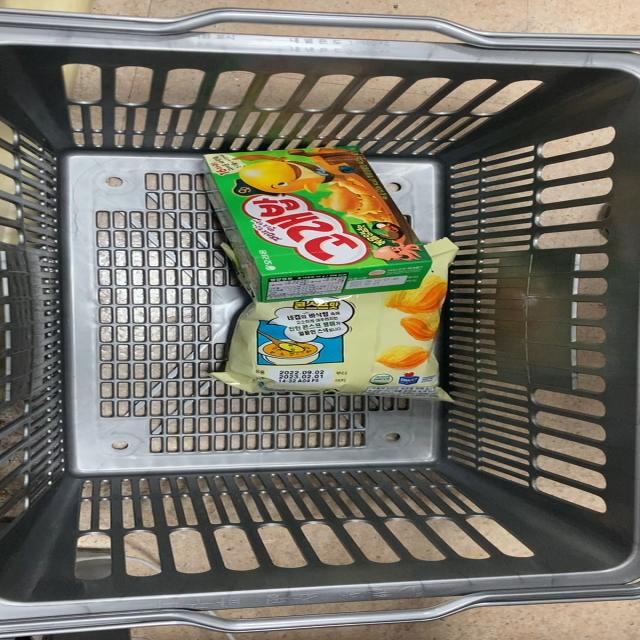ggobukchip: (200, 280, 454, 392)
goraebob: (188, 133, 432, 293)
